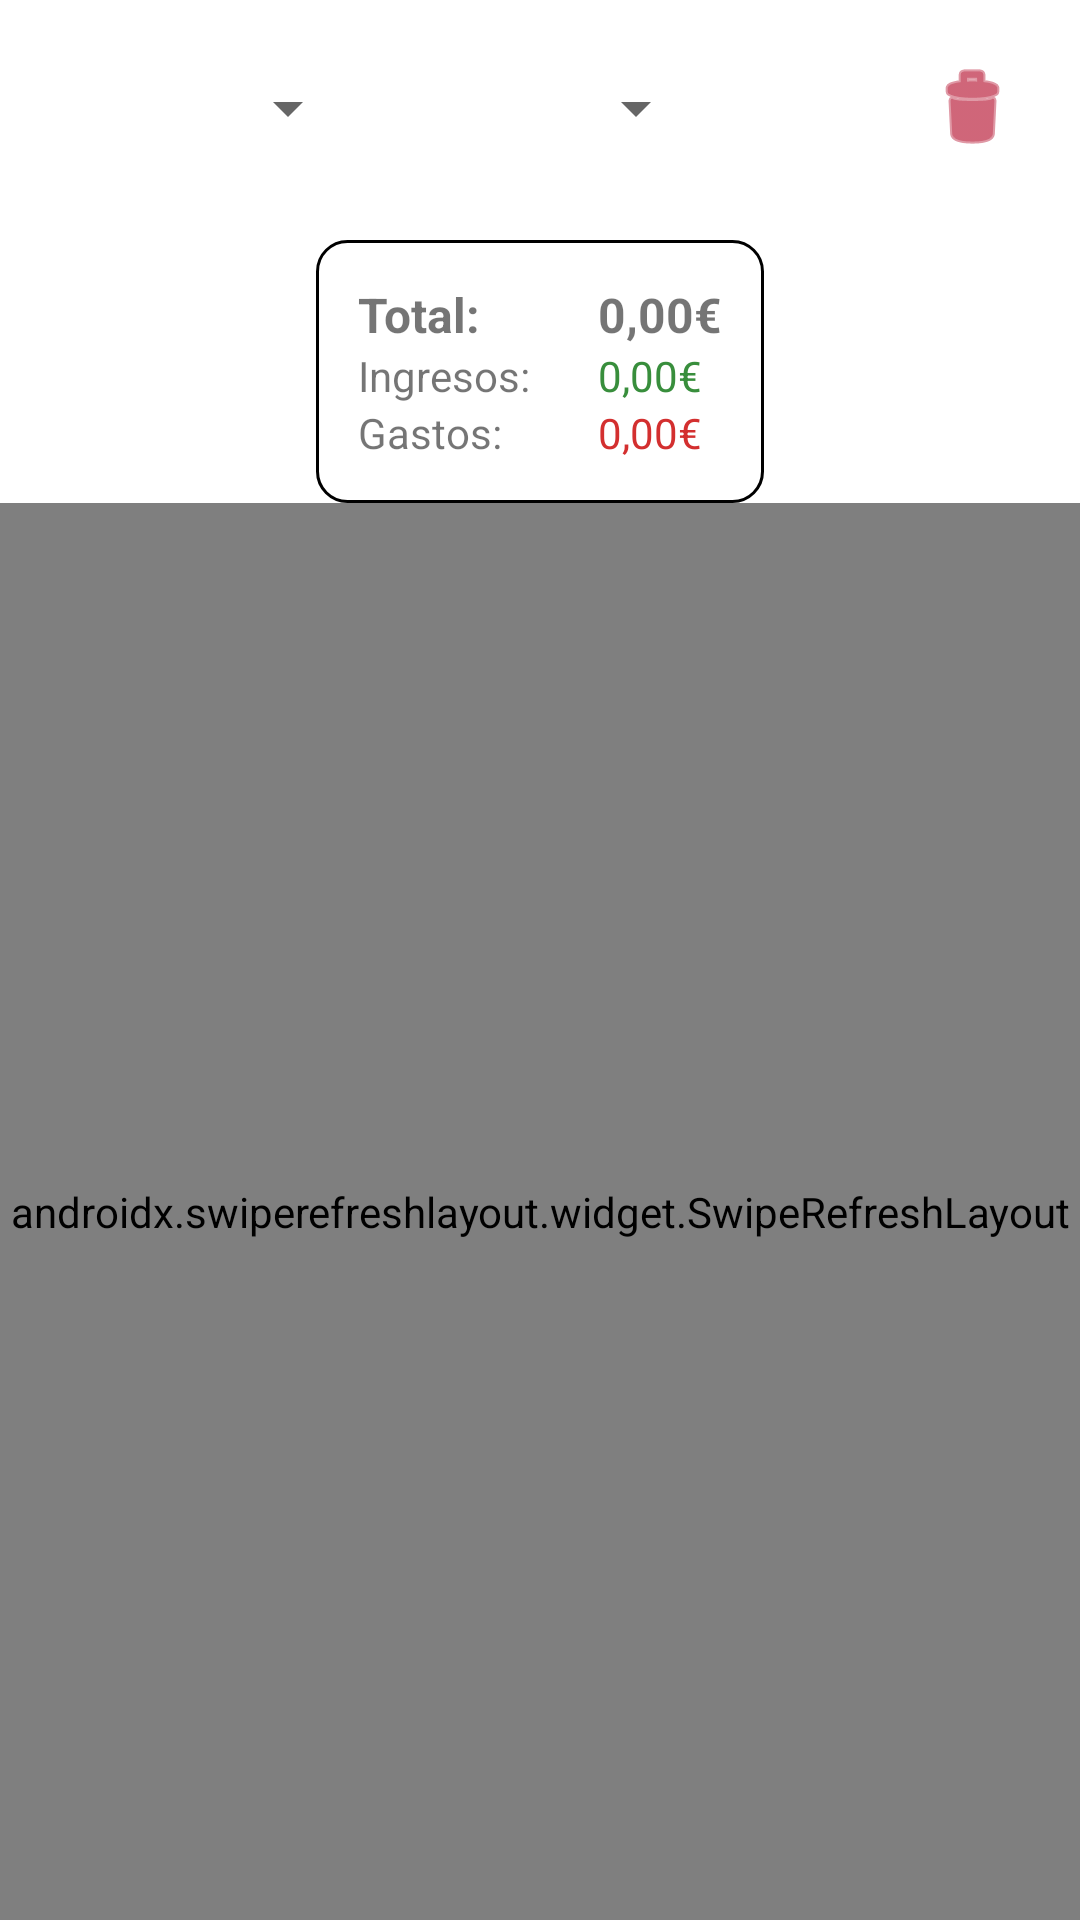

Locate icon controls on the screen. Image size 1080 × 1920, boxes as (x1, y1, x2, y2).
Vaciar mes: (945, 69, 1000, 144)
